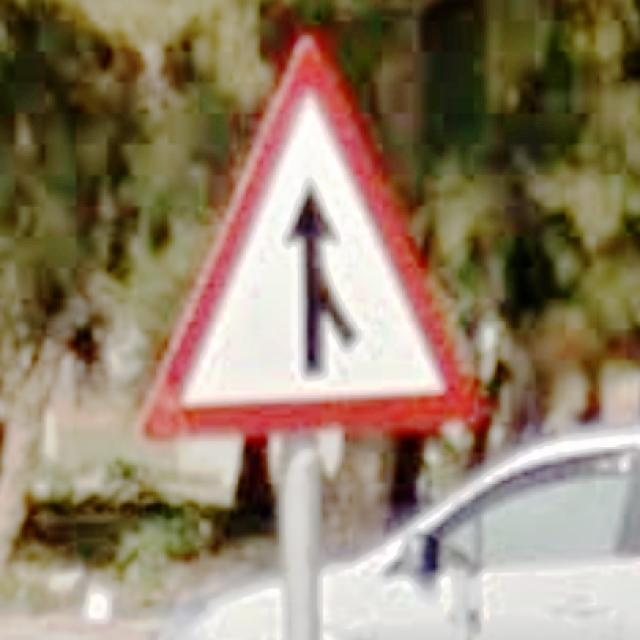rightmerge: (139, 40, 481, 440)
